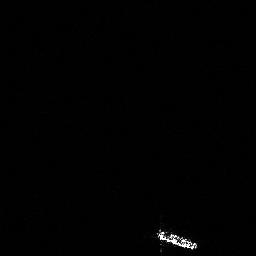ship: (152, 225, 201, 252)
